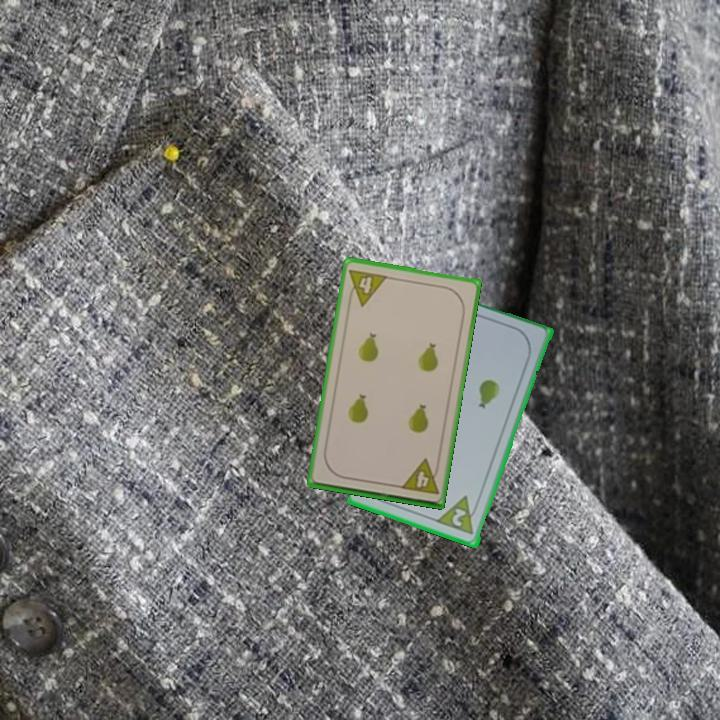2p: (448, 505, 470, 530)
4p: (344, 265, 390, 309), (397, 456, 442, 497)
